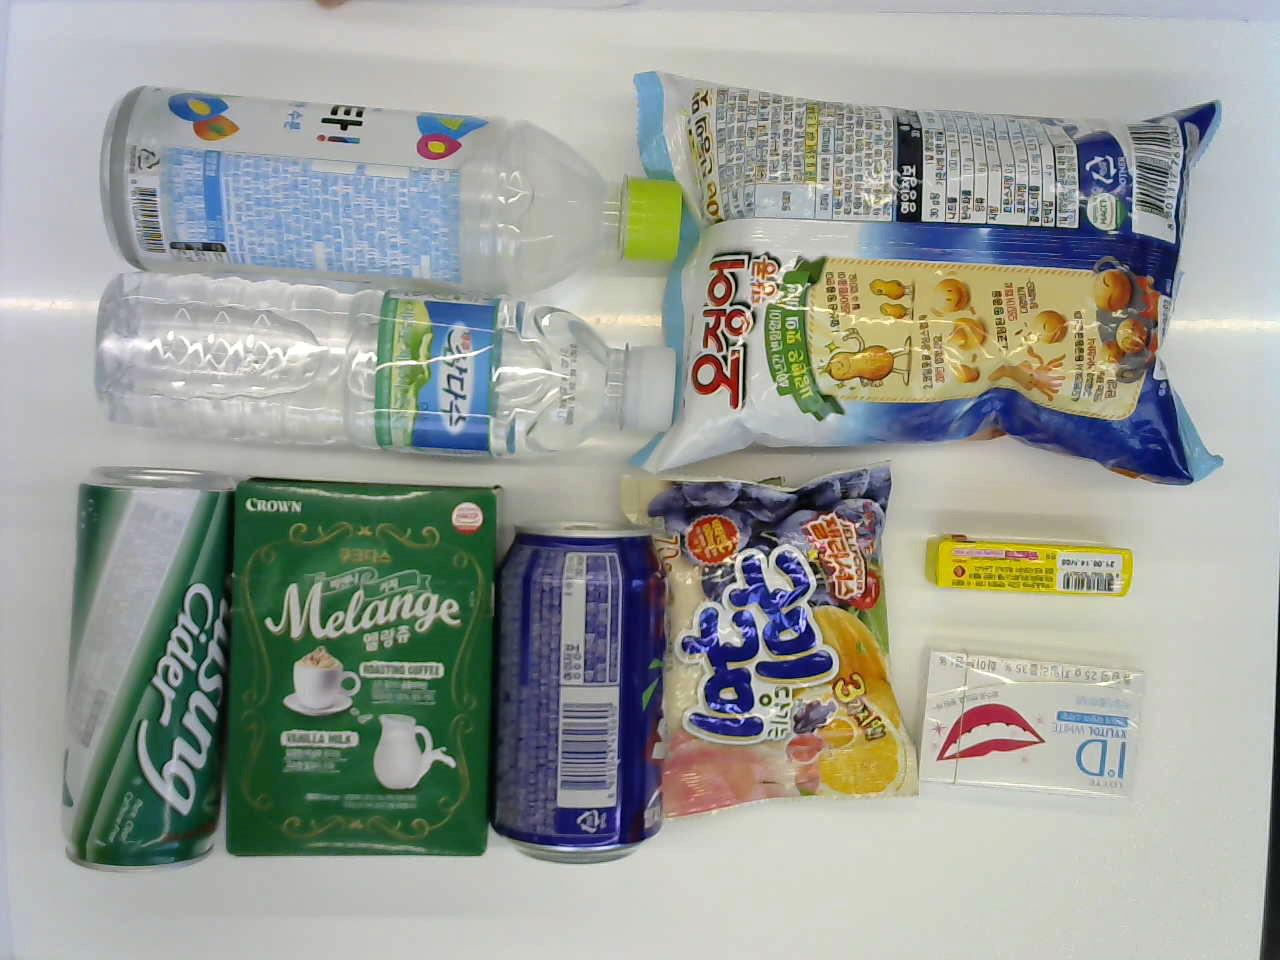ID_gum: (916, 641, 1144, 799)
cidar: (60, 464, 241, 888)
couque_coffee: (231, 465, 505, 889)
gumi_gumi: (636, 465, 922, 831)
juicyfresh: (923, 524, 1135, 605)
samdasu: (85, 260, 666, 472)
squid_peanut: (636, 78, 1232, 464)
toreta: (95, 77, 676, 288)
welchs: (482, 502, 664, 874)
